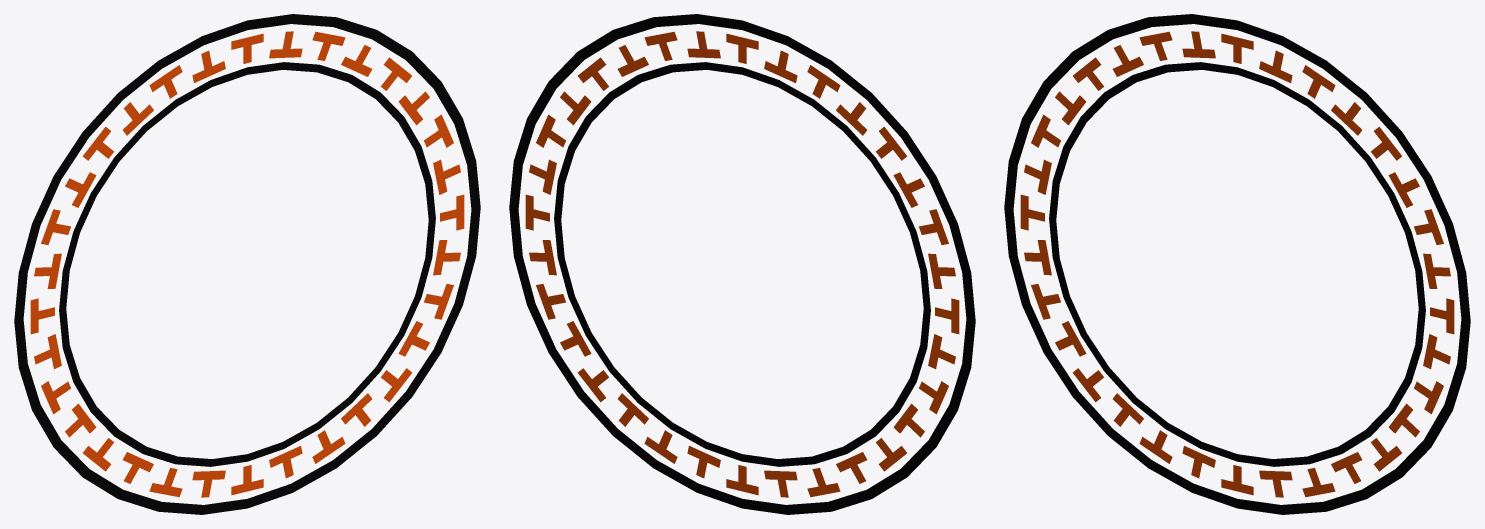
File: GamWaypoint.fbx
3 views of the same model, side by side, from view 1: azimuth 30°, elevation 25°; view 2: azimuth 150°, elevation 25°; view 3: azimuth 330°, elevation 25° (orthographic).
Visible parts, largest first — view 1: Circle; view 2: Circle; view 3: Circle.
Part boxes in pixels (left/top/right/bottom): Circle: left=14, top=14, right=480, bottom=514; Circle: left=509, top=14, right=975, bottom=514; Circle: left=1004, top=14, right=1470, bottom=514.
Size of the model in its own units: 200 by 200 by 0.
